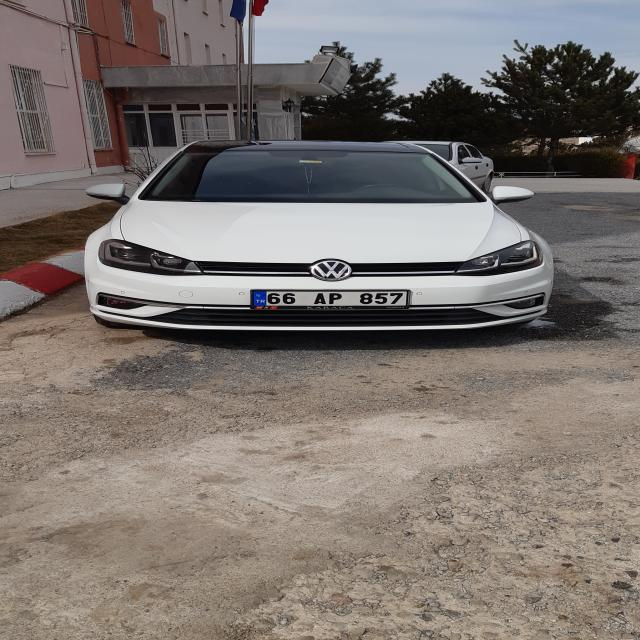plate: (252, 290, 409, 306)
